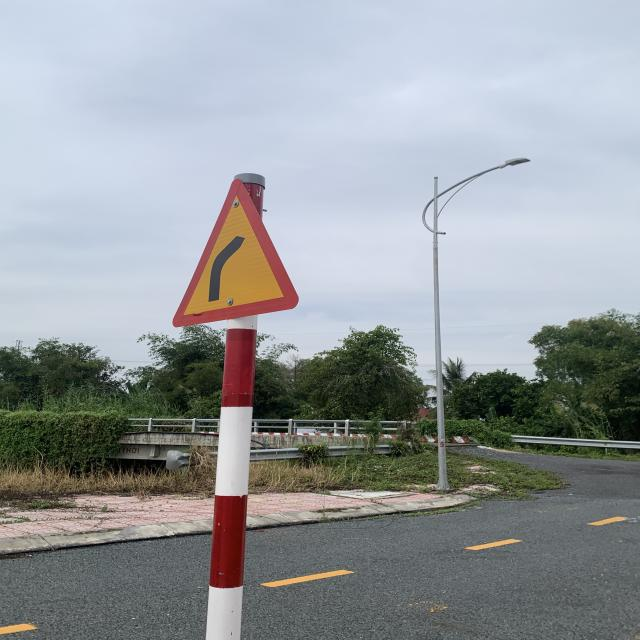Duong_Nguoi_Di_Bo_Cat_Ngang: (170, 179, 298, 328)
